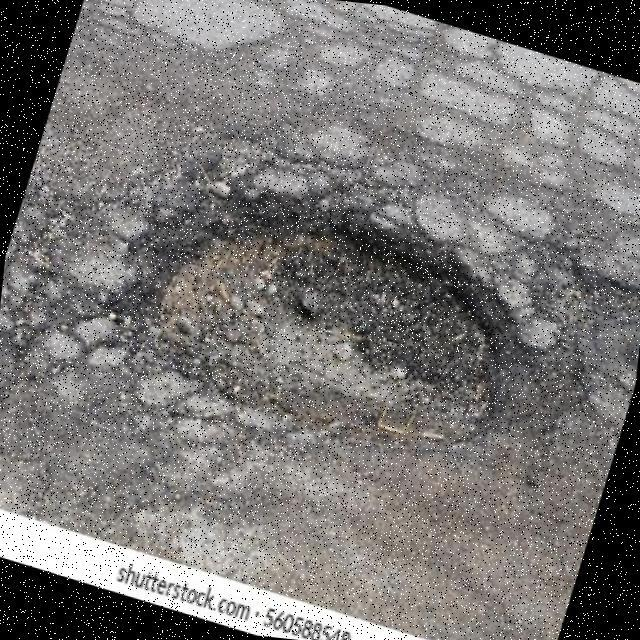Pothole: (115, 181, 586, 444)
